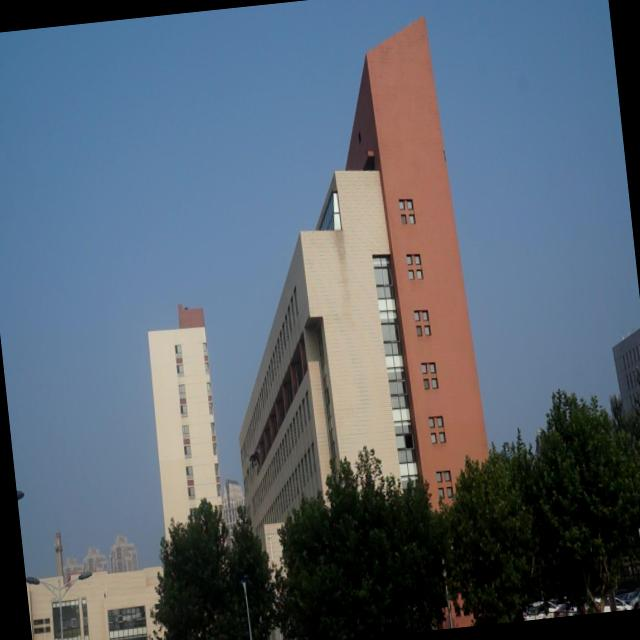drone: (244, 447, 264, 470)
